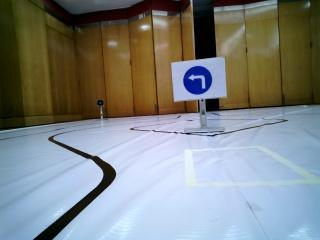left: (173, 65, 225, 98)
